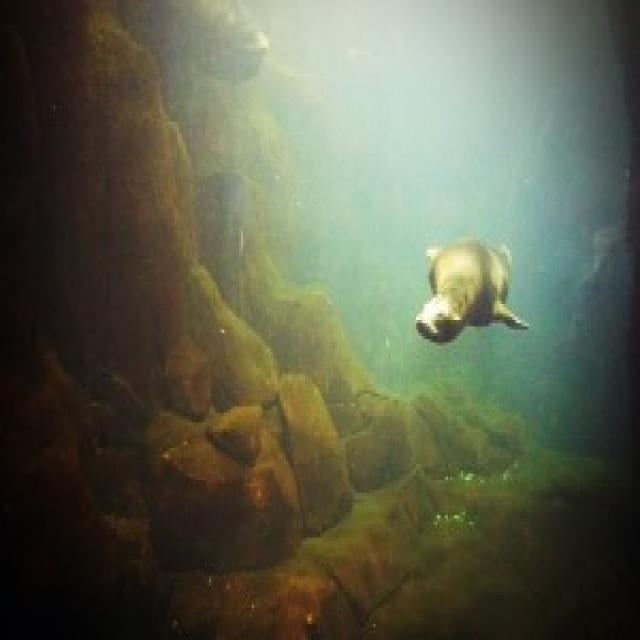Seal: (400, 224, 528, 374)
